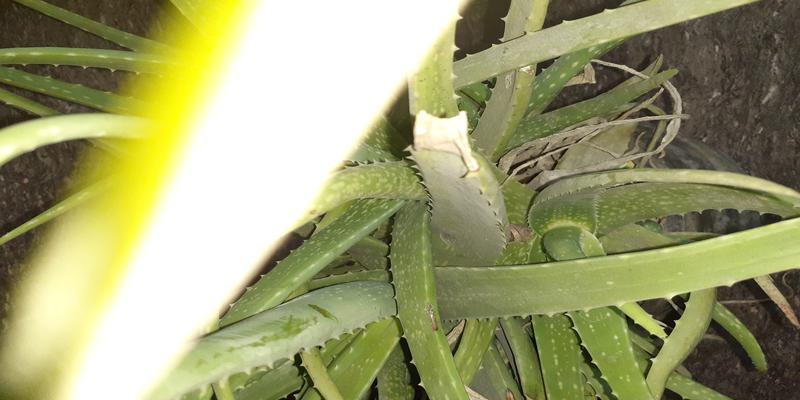Aloevera: (92, 22, 732, 370)
